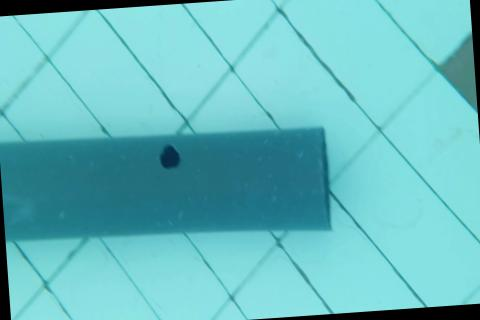kebocoran: (157, 143, 181, 170)
